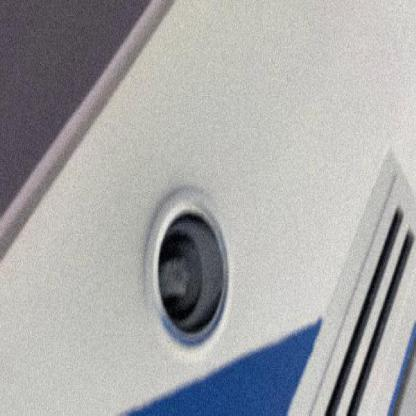light_off: (136, 171, 242, 369)
